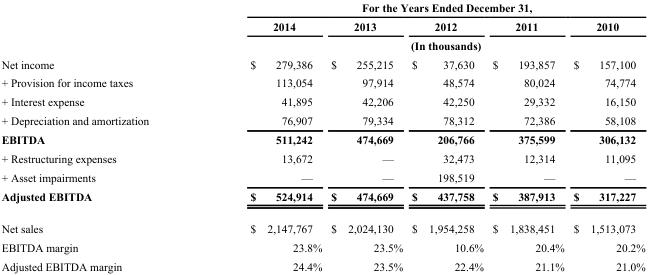table: (0, 0, 644, 271)
table column: (0, 0, 198, 271), (198, 0, 325, 271), (325, 0, 406, 271), (406, 0, 487, 271), (487, 0, 568, 271), (568, 0, 644, 271)
table column header: (0, 0, 644, 54)
table row: (0, 186, 644, 212), (0, 212, 644, 237), (0, 16, 644, 35), (0, 35, 644, 54), (0, 54, 644, 73), (0, 73, 644, 92), (0, 92, 644, 111), (0, 129, 644, 148), (0, 148, 644, 167), (0, 167, 644, 186), (0, 237, 644, 256), (0, 111, 644, 129), (0, 0, 644, 16), (0, 256, 644, 271)
table spanning cell: (198, 35, 644, 54), (198, 0, 644, 16)
